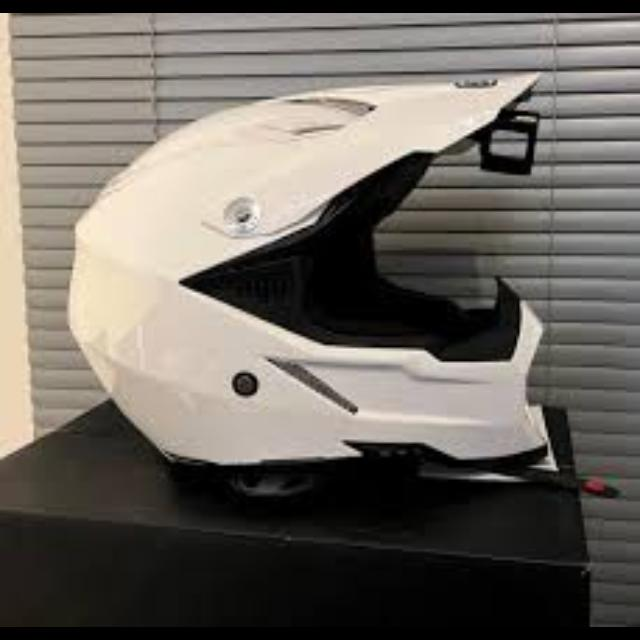motorcycle-helmets: (70, 74, 556, 499)
